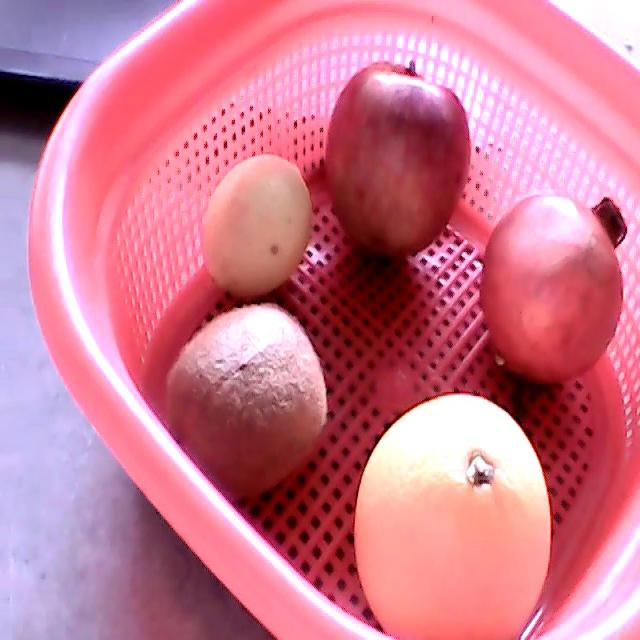apple: (327, 63, 471, 258)
kiwi: (164, 303, 329, 494)
lemon: (202, 154, 312, 299)
orange: (354, 391, 552, 639)
pomegranate: (481, 192, 625, 387)
